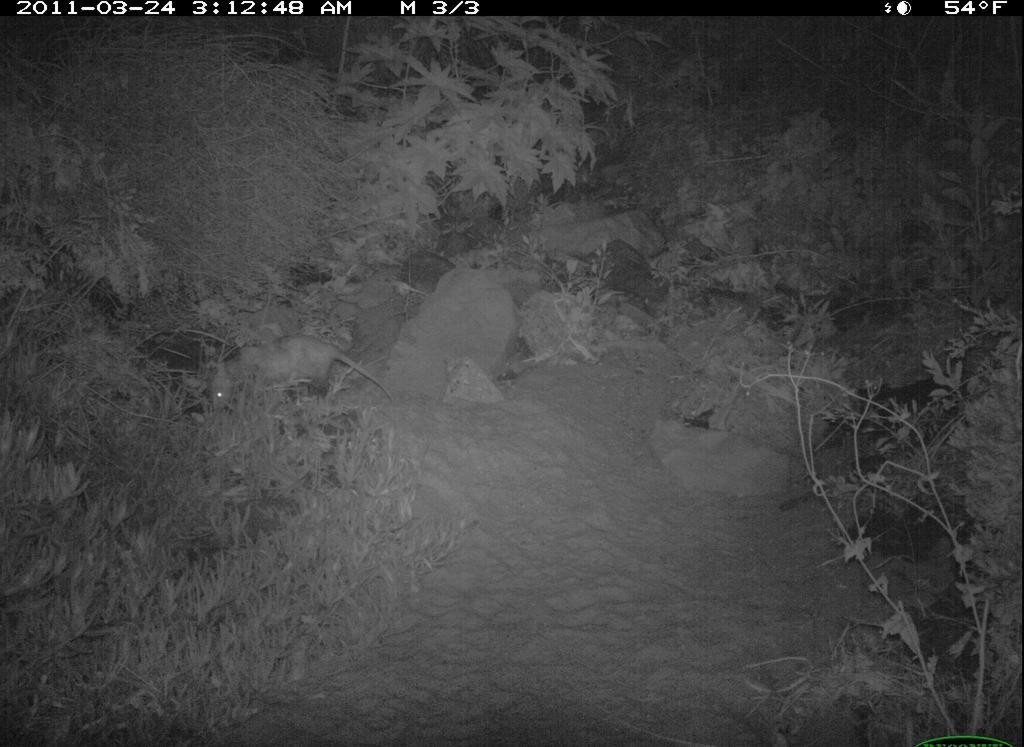opossum: (212, 332, 399, 418)
